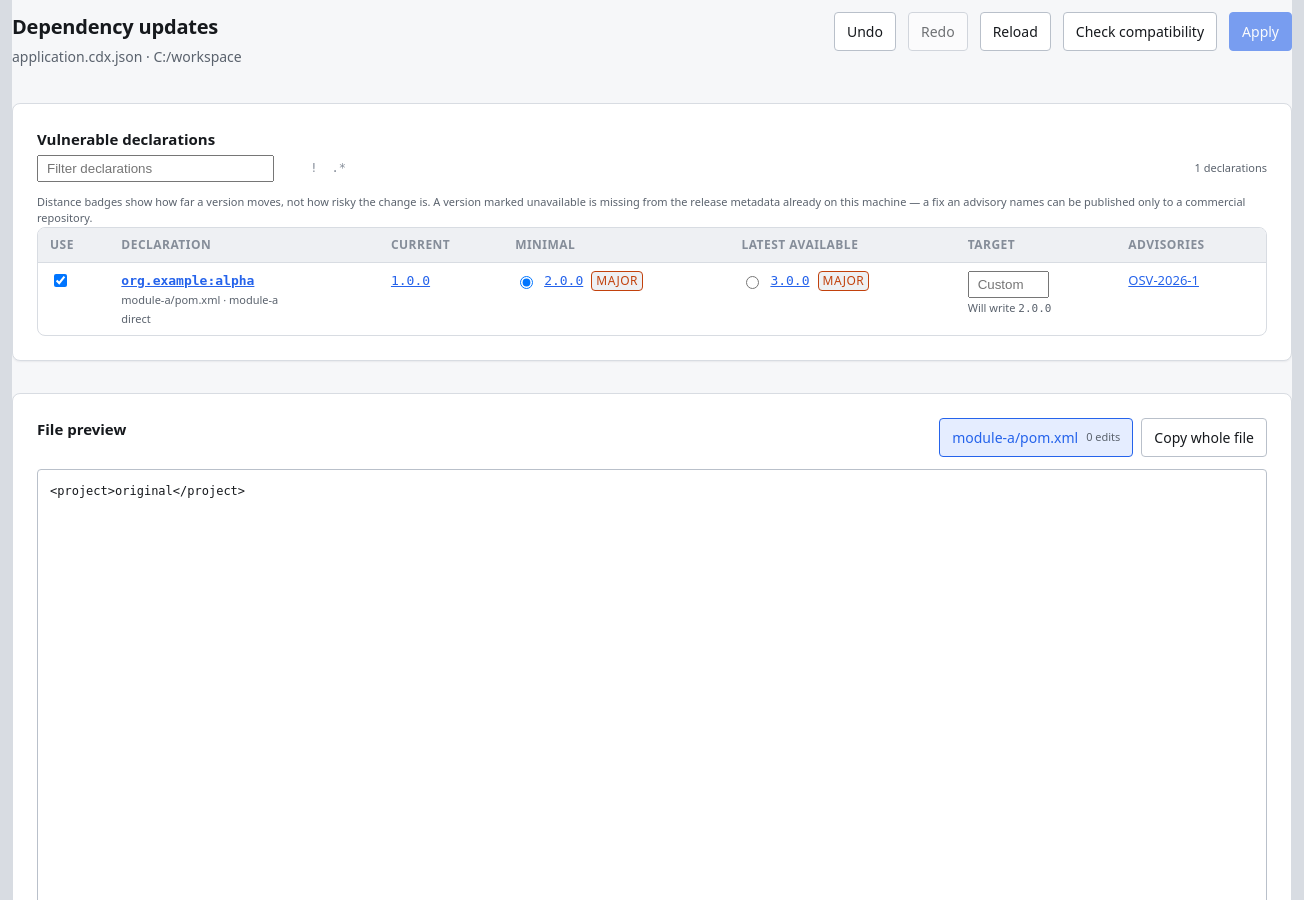
BumpPage › renders a clean compatibility result and its notes
expect the checkbox named "Select org.example:alpha" is shown: met, box top-left (54, 274), bottom-right (67, 286)
Click the button "Check compatibility". click: [1140, 32]
box: top-left (1063, 12), bottom-right (1217, 51)
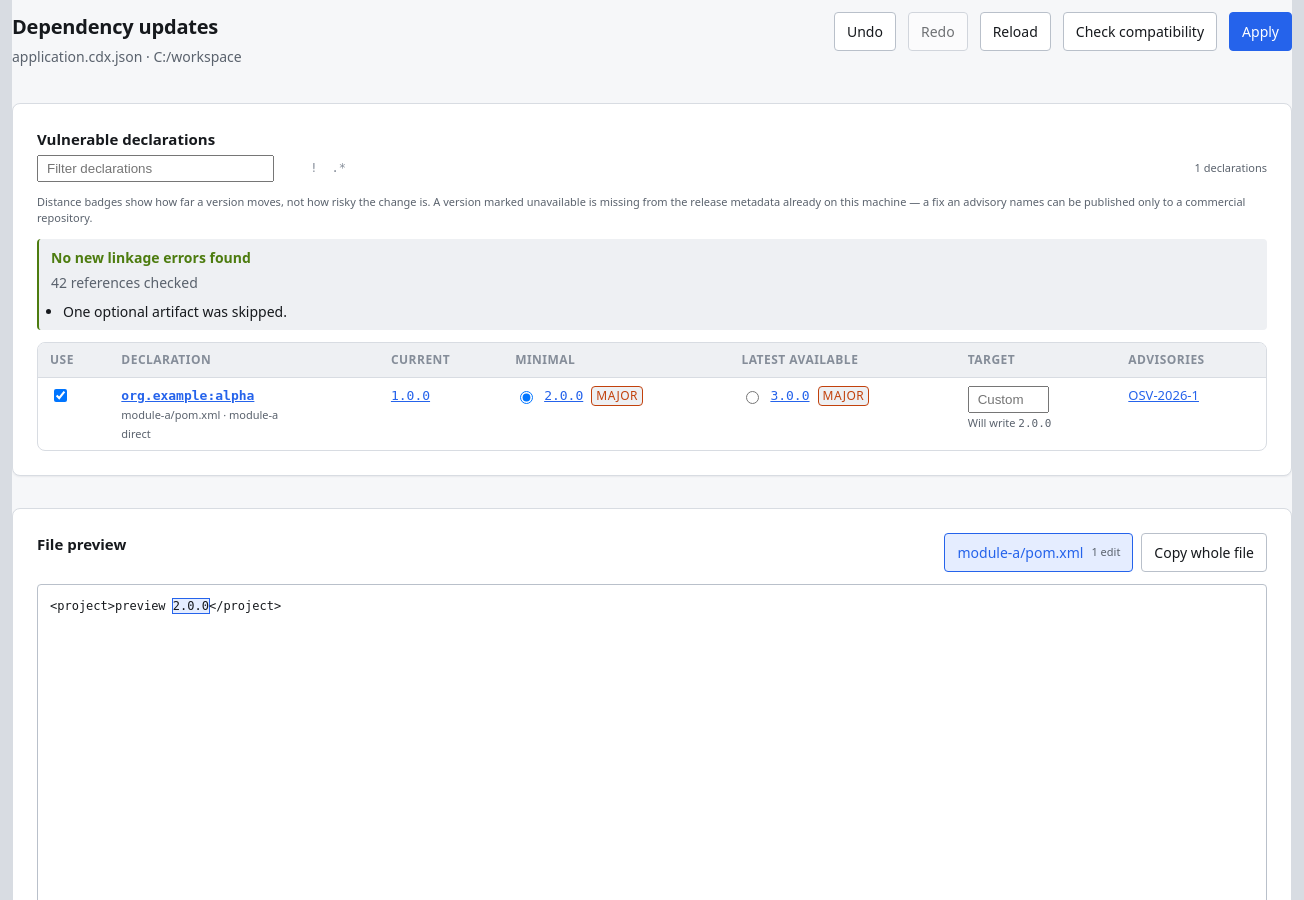
expect the message shows "No new linkage errors found": met, box top-left (51, 248), bottom-right (251, 266)
expect the message shows "42 references checked": met, box top-left (37, 238), bottom-right (1267, 330)
expect the message shows "One optional artifact was skipped.": met, box top-left (63, 302), bottom-right (287, 320)
